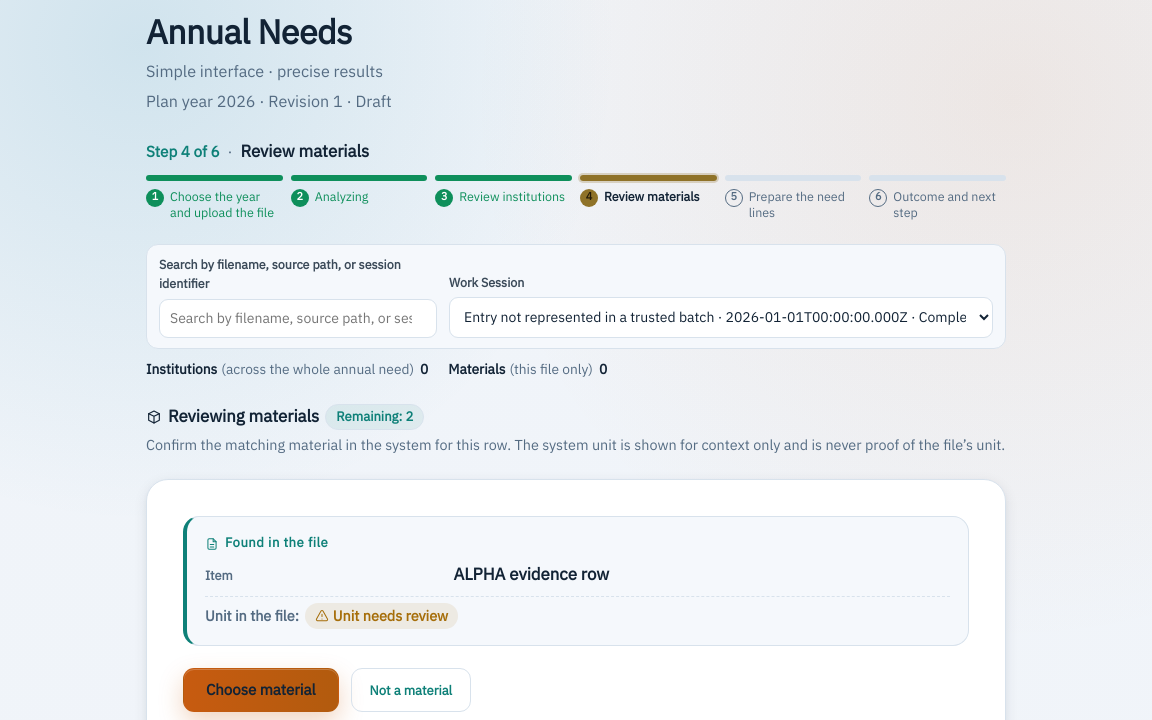
Test: C6-B1 — a confirmed Simple material decision re-reads the server, and only that re-read advances the queue › B1-3 a refused write removes nothing, decrements nothing, and goes through the existing refusal path
The image size is (1152, 720).
Click the button "Not a material": (411, 690) [351,668,471,712]
(page scrolled)
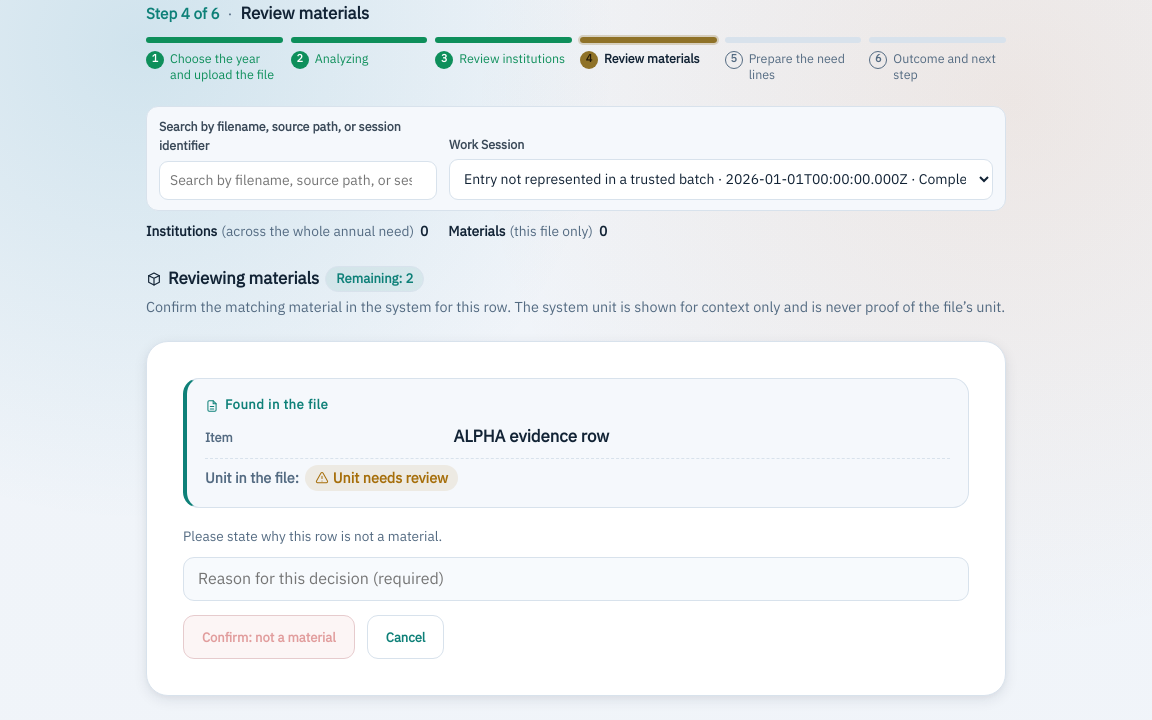
In the field labelled "Reason for this decision (required)": (576, 579) [183,557,969,601], type "C6-B1 reviewer: not a material"
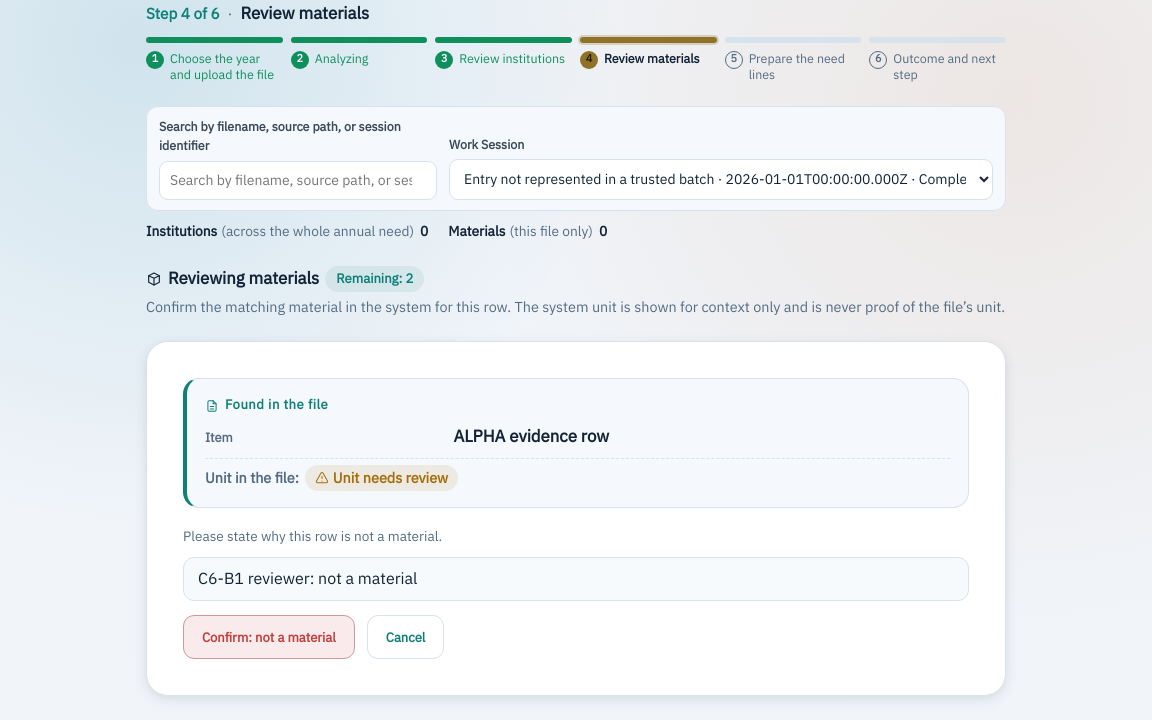
Click the button "Confirm: not a material": (269, 637) [183,615,355,659]
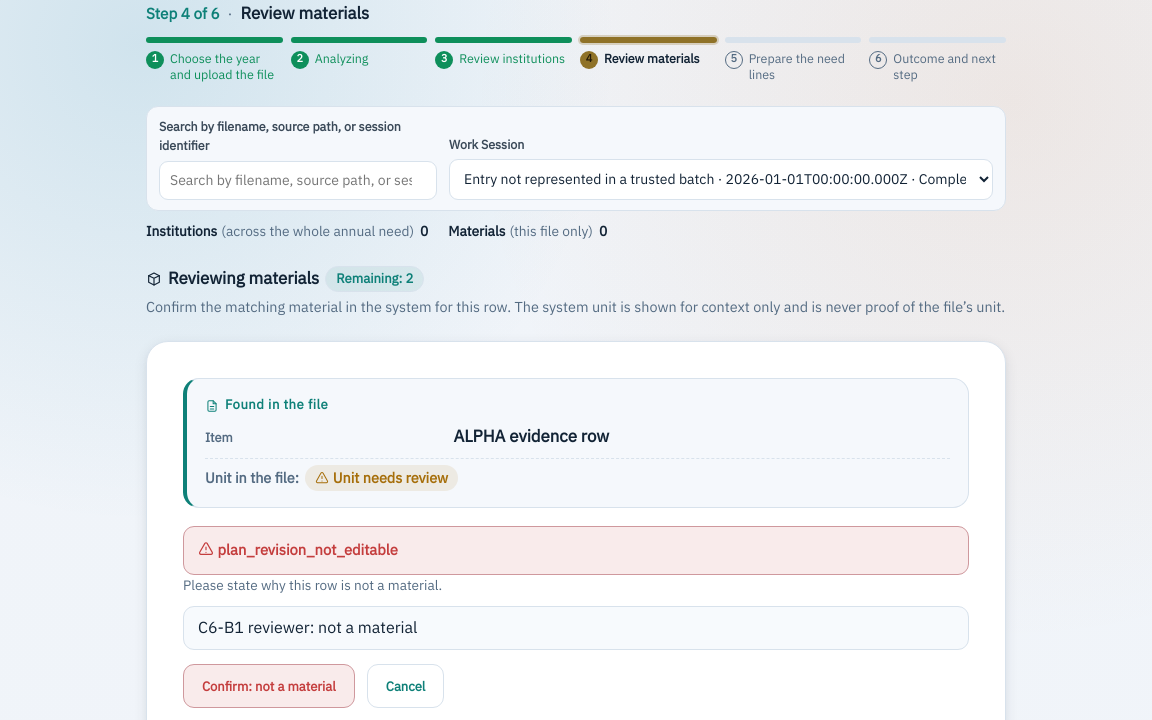
Expected: the element with test id "cn2b-simple-material-card" shows "ALPHA evidence row", [453,424,609,449]
Result: the message "plan_revision_not_editable" is shown at [183,526,969,575]
